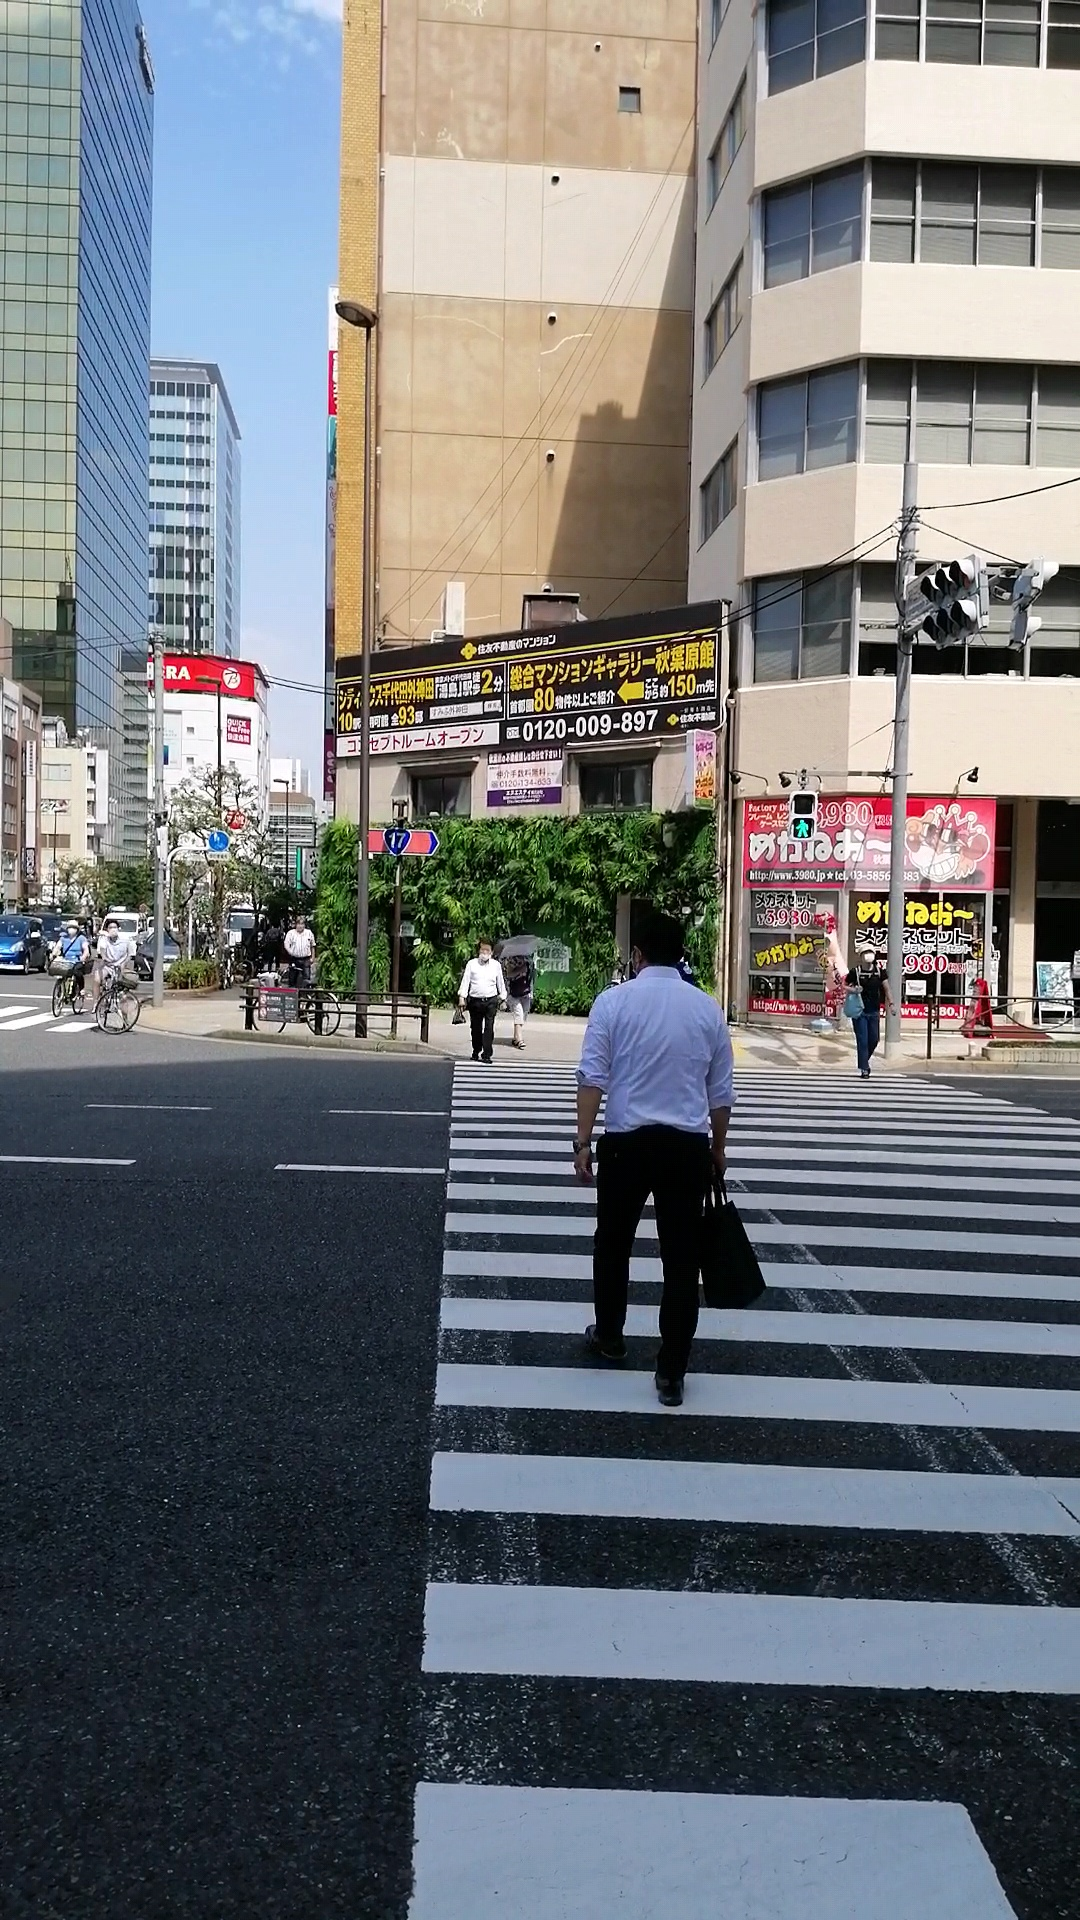green: (789, 790, 818, 841)
